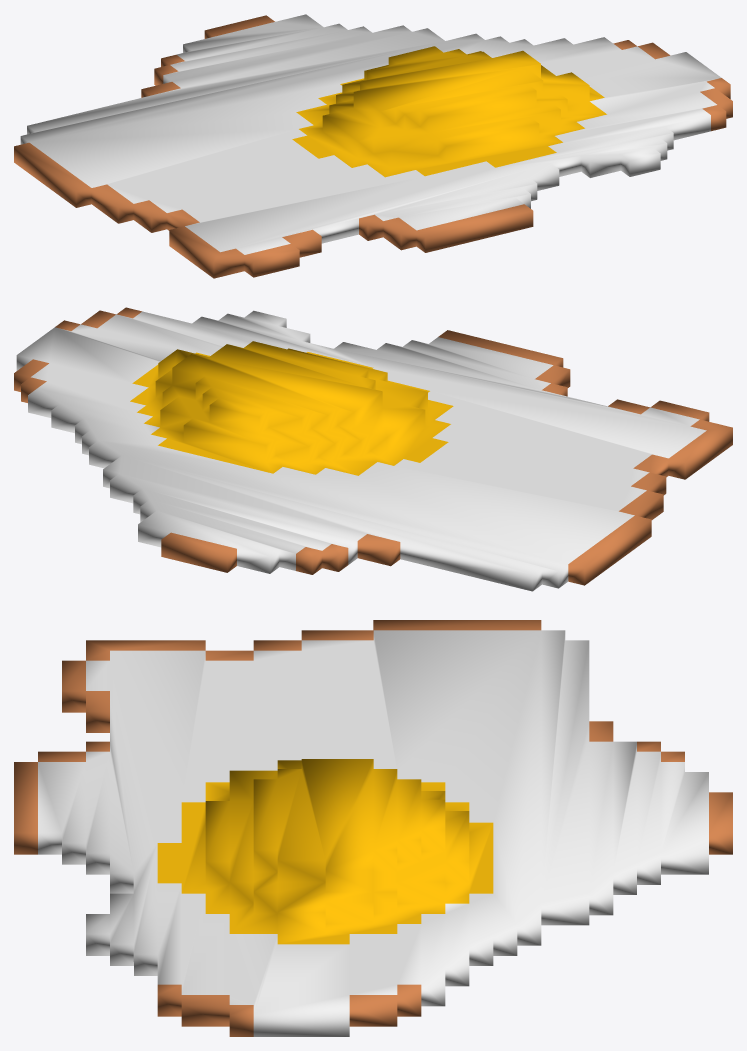
3 renders of one model, top to bottom at view 1: azimuth 30°, elevation 25°; view 2: azimuth 150°, elevation 25°; view 3: azimuth 270°, elevation 25°, orthographic. The views are drawn at different scales.
Parts seen in each view (by area): view 1: me; view 2: me; view 3: me.
Boxes of the visible parts, x1,y1,x2,y2 form: me: (14,14,732,278); me: (14,307,732,591); me: (14,620,732,1036).
Size of the model in its own units: 390 by 30 by 300.
1 material, 1 textured.
